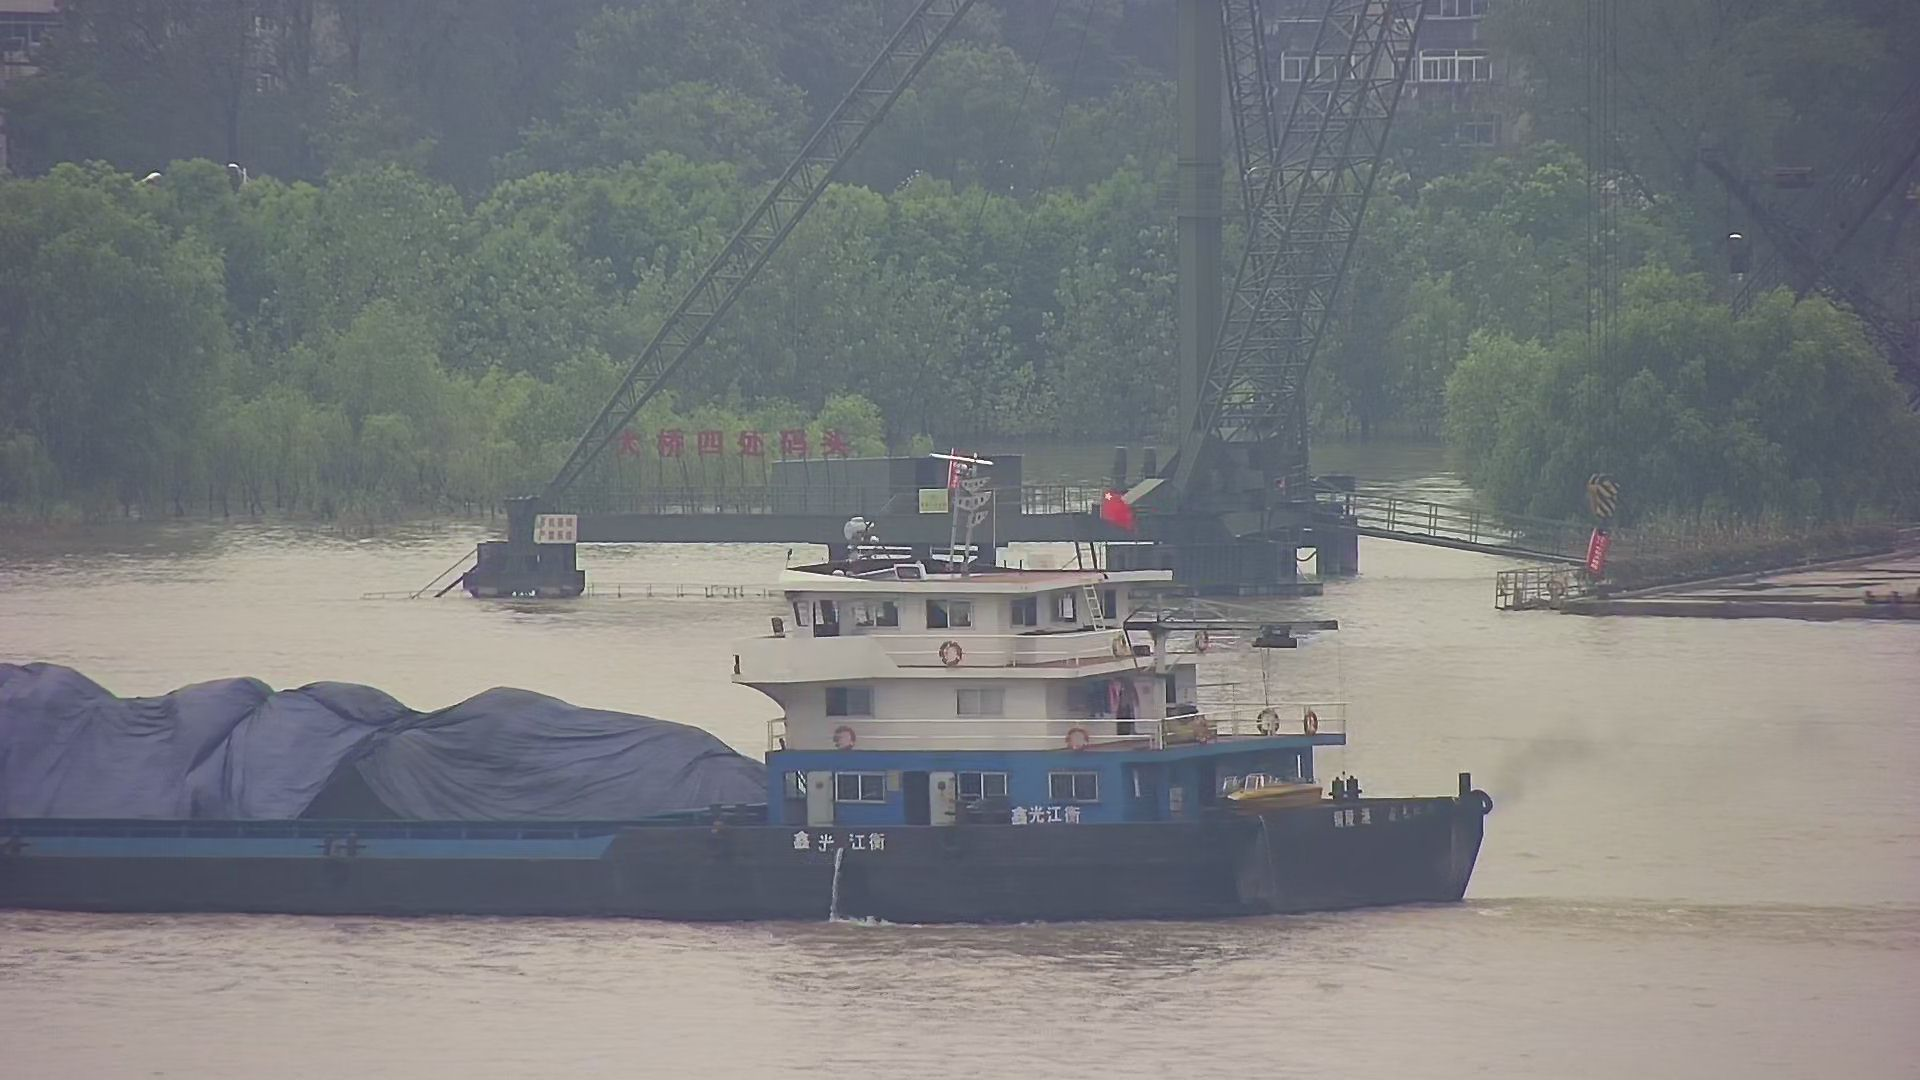platform: (430, 1, 1444, 605)
ship: (1, 429, 1523, 932)
